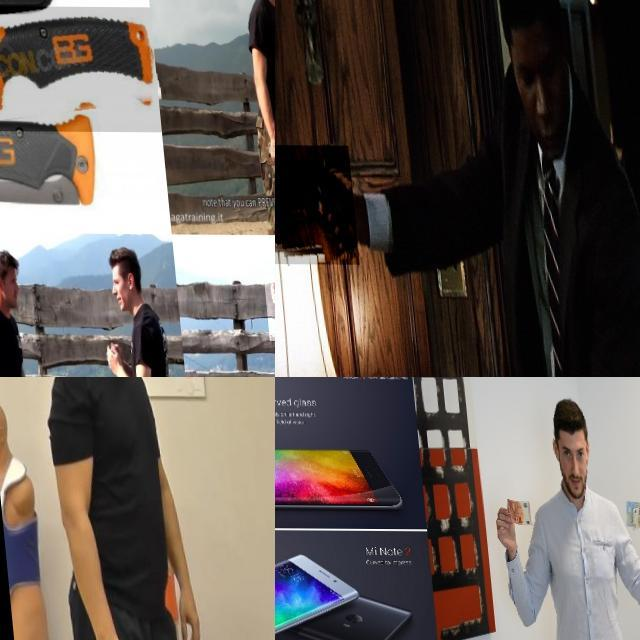-: (0, 4, 164, 131), (256, 274, 275, 340), (259, 141, 275, 176)
gun-knife-thesis - v11 Yolov5 augmented: (275, 145, 353, 264)
